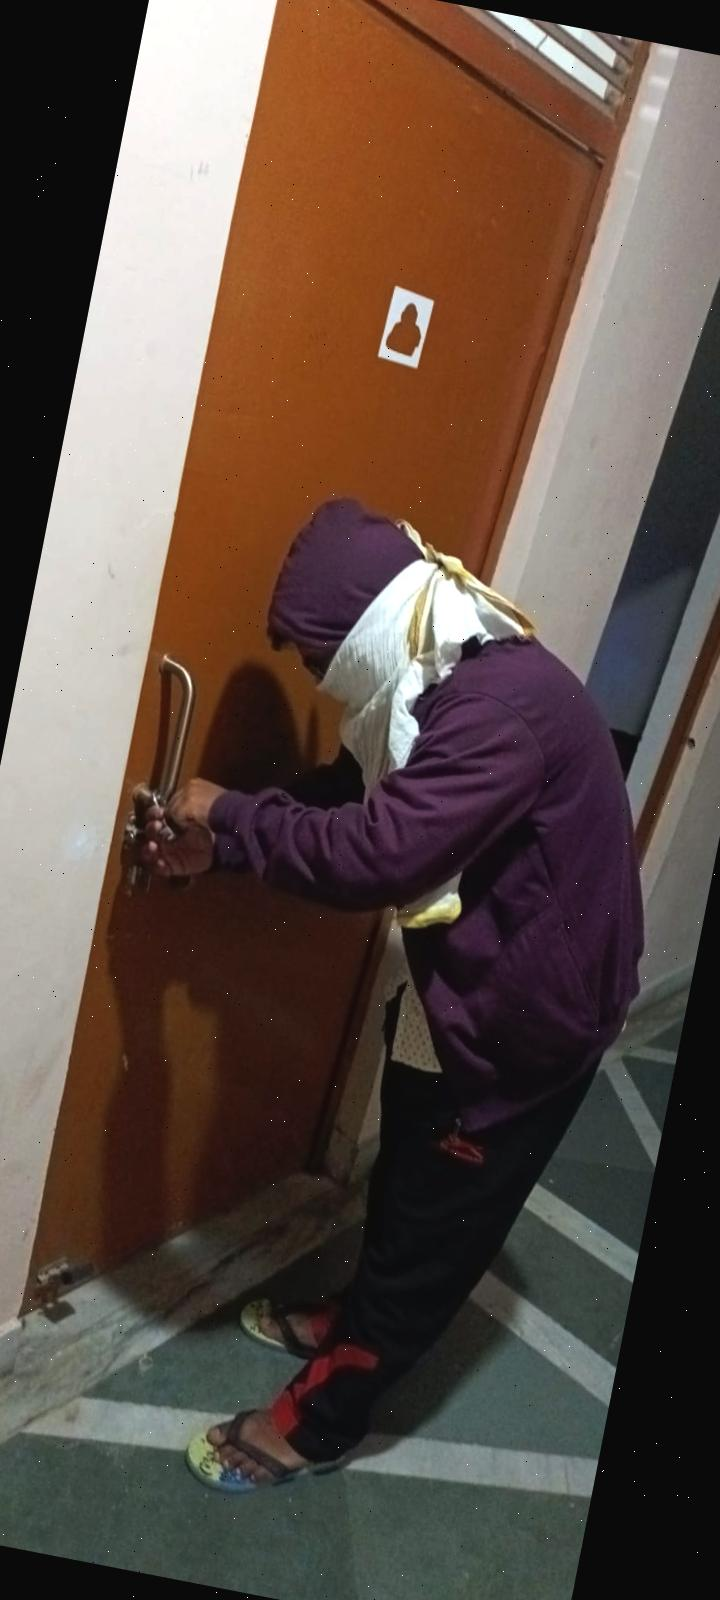suspicion: (0, 436, 720, 1580), (79, 449, 720, 1600)
